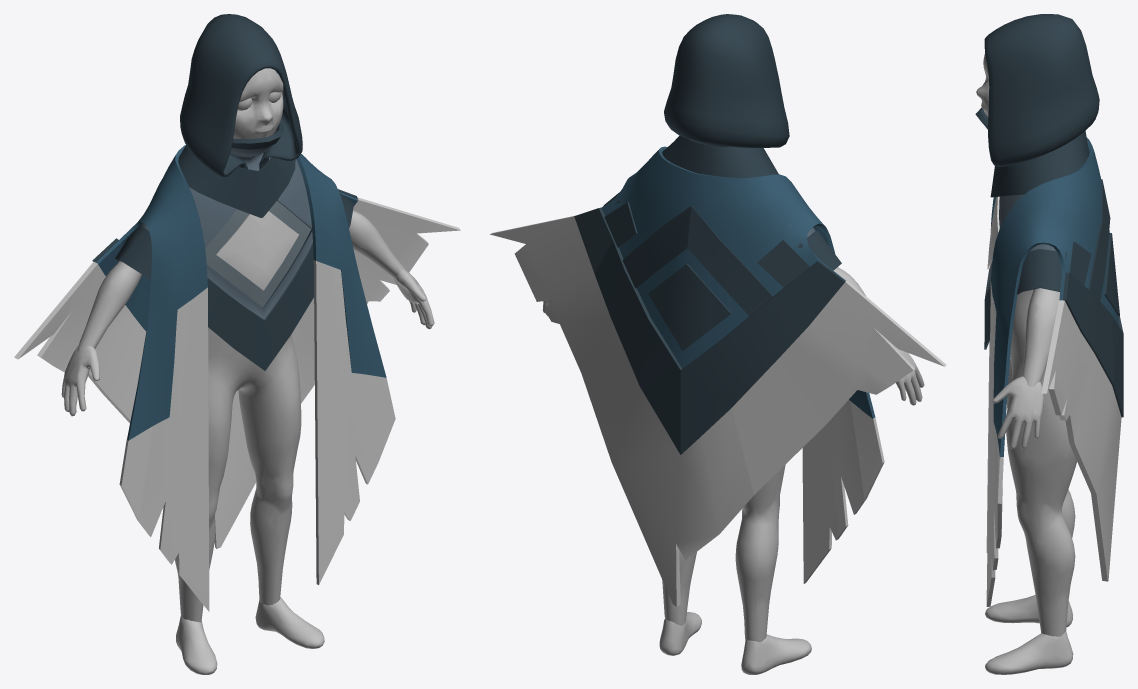
Rendered from MainCharDec.fbx.
3 renders of one model, left to right at view 1: azimuth 30°, elevation 25°; view 2: azimuth 150°, elevation 25°; view 3: azimuth 270°, elevation 25°, orthographic. The views are drawn at different scales.
Parts seen in each view (by area): view 1: FrontGlass, Body, CapeBase, Poncho, BackGlass, Hood, Collar; view 2: BackGlass, BackDetail, CapeBase, Hood, GlowPatches, Body, FrontGlass, Collar, Poncho; view 3: Body, Hood, CapeBase, BackGlass, BackDetail, Poncho, FrontGlass, Collar, GlowPatches.
Boxes of the visible parts, bbox=[...] form: FrontGlass: bbox=[119, 260, 395, 611]; Body: bbox=[61, 68, 434, 674]; CapeBase: bbox=[96, 145, 386, 440]; Poncho: bbox=[115, 122, 353, 370]; BackGlass: bbox=[14, 197, 460, 548]; Hood: bbox=[180, 14, 302, 176]; Collar: bbox=[178, 145, 295, 217]; BackGlass: bbox=[490, 216, 946, 606]; BackDetail: bbox=[574, 207, 845, 454]; CapeBase: bbox=[601, 146, 875, 418]; Hood: bbox=[664, 14, 789, 147]; GlowPatches: bbox=[604, 202, 809, 350]; Body: bbox=[542, 267, 924, 674]; FrontGlass: bbox=[802, 400, 884, 583]; Collar: bbox=[662, 135, 778, 177]; Poncho: bbox=[603, 192, 841, 270]; Body: bbox=[976, 53, 1076, 674]; Hood: bbox=[984, 14, 1099, 166]; CapeBase: bbox=[991, 137, 1118, 457]; BackGlass: bbox=[1041, 300, 1121, 581]; BackDetail: bbox=[1063, 272, 1123, 417]; Poncho: bbox=[975, 107, 1066, 349]; FrontGlass: bbox=[986, 227, 1003, 606]; Collar: bbox=[990, 131, 1088, 197]; GlowPatches: bbox=[1070, 179, 1119, 316].
Bounding box in the file's own units: 13.21 × 17.67 × 3.77.
